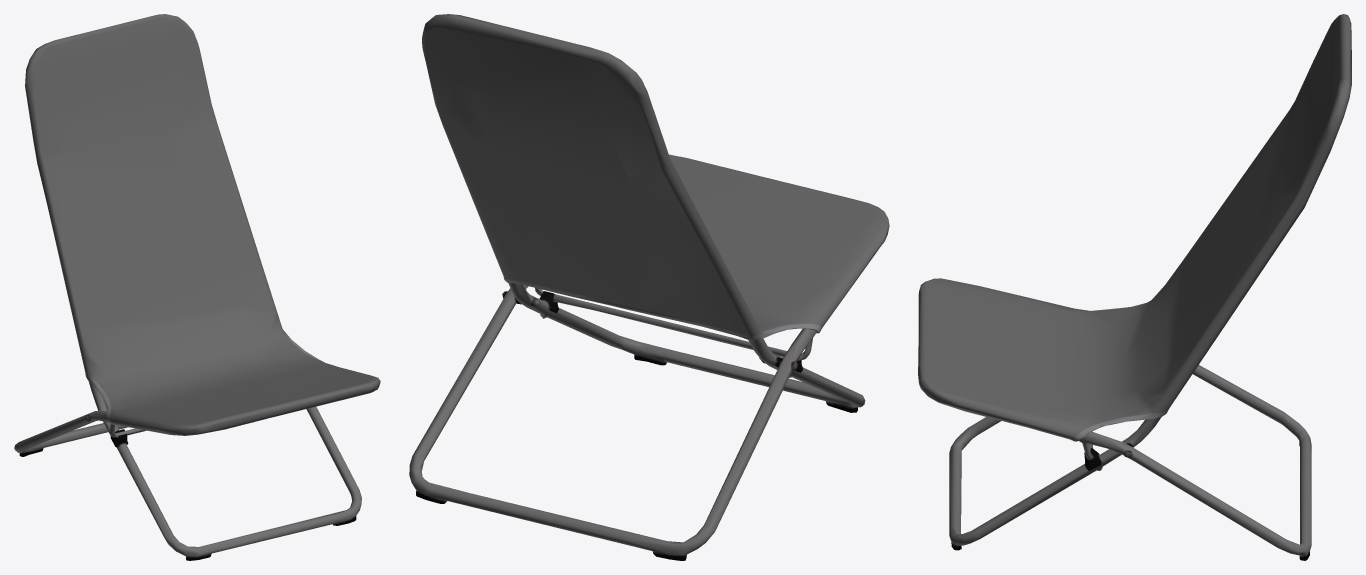
The model's file is viggso_lezak_ogrodowy_20597070.glb.
The picture shows the model from 3 angles, left to right: view 1: azimuth 30°, elevation 25°; view 2: azimuth 150°, elevation 25°; view 3: azimuth 270°, elevation 25°; orthographic projection. The views are drawn at different scales.
Parts seen in each view (by area): view 1: viggso_lezak_ogrodowy_20597070; view 2: viggso_lezak_ogrodowy_20597070; view 3: viggso_lezak_ogrodowy_20597070.
Boxes of the visible parts, box(x1,y1,x2,y2) form: viggso_lezak_ogrodowy_20597070: box(14, 14, 380, 560); viggso_lezak_ogrodowy_20597070: box(409, 14, 889, 560); viggso_lezak_ogrodowy_20597070: box(918, 14, 1351, 560).
Size of the model in its own units: 0.5764 by 0.9355 by 0.8069.
Materials: 1 (1 with a texture image).
